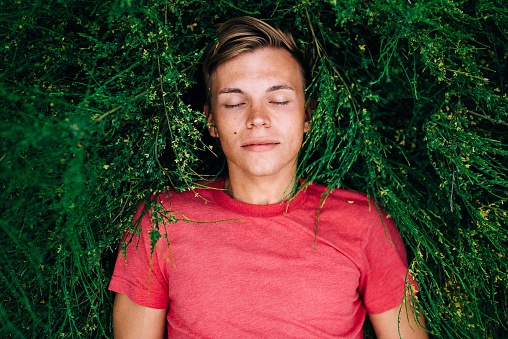deitado: (101, 7, 440, 339)
